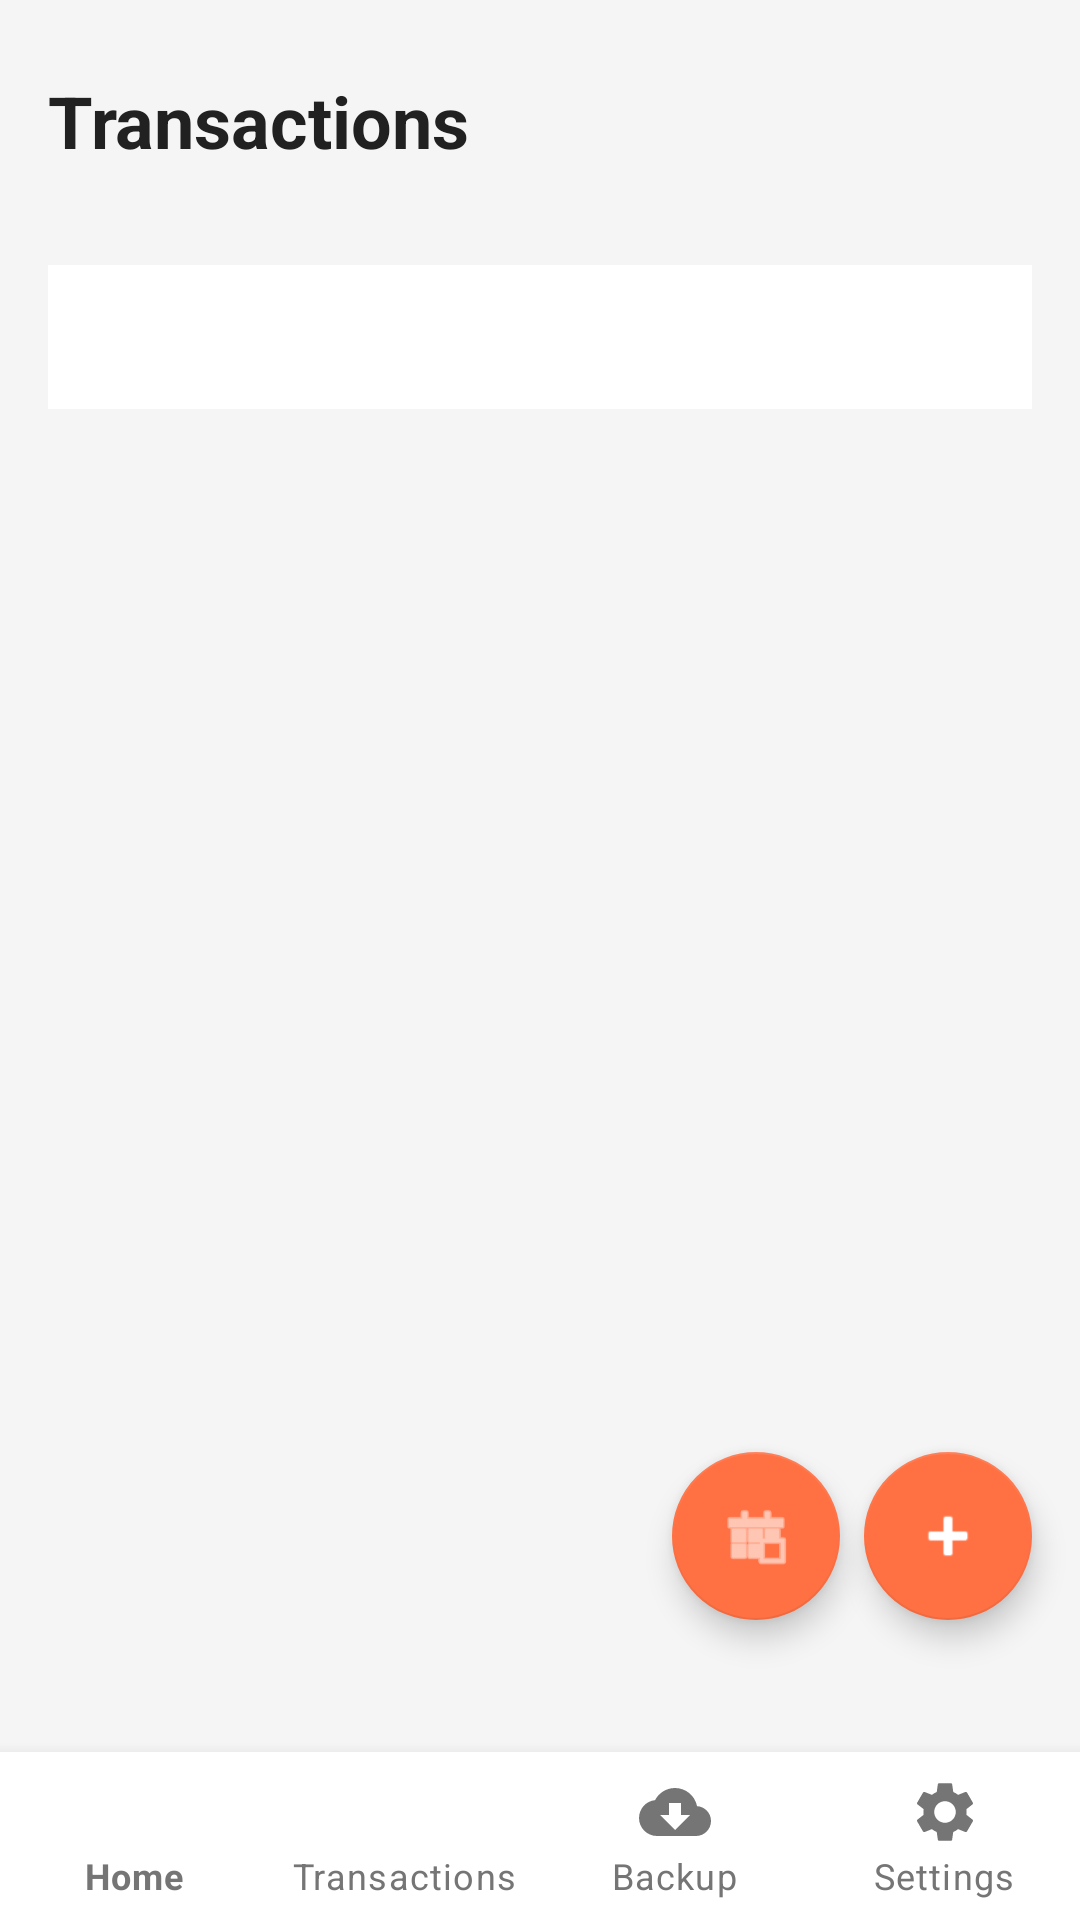

Locate icon controls on the screen. Image size 1080px×1920px, boxes as (x1,y1,x2,y2).
Add Transaction: (864,1452,1032,1620)
Filter by Date: (672,1452,840,1620)
